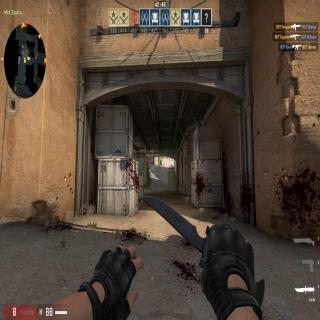CT-Body: (159, 159, 162, 167)
